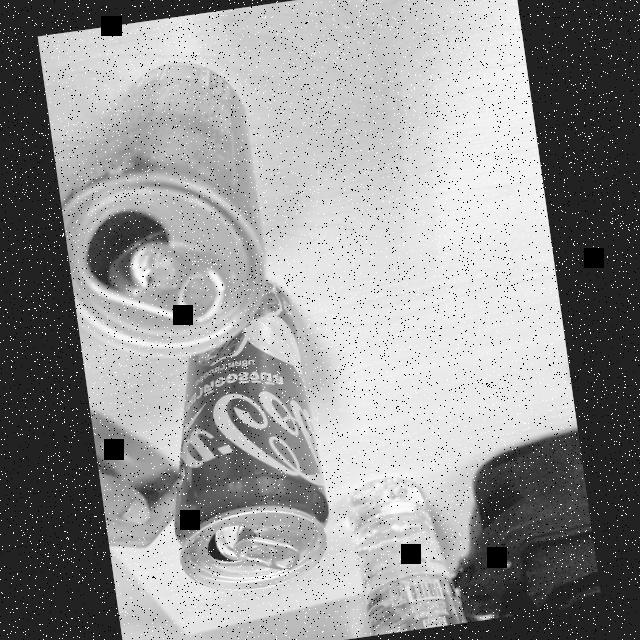can: (44, 52, 298, 382), (132, 271, 356, 607)
